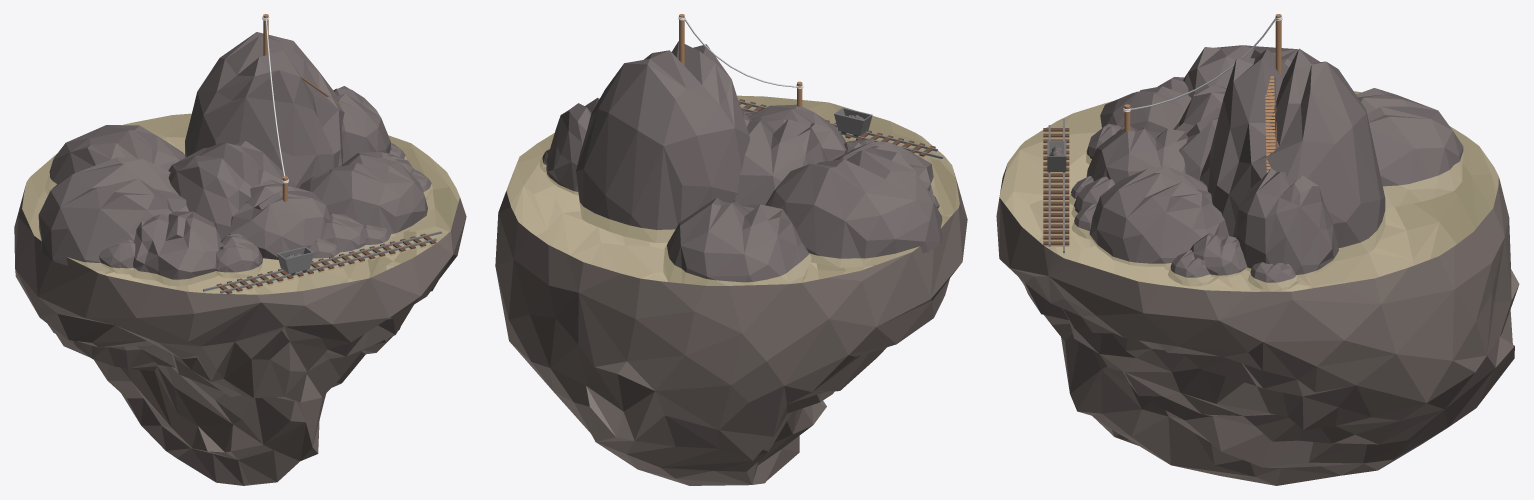
Rendered from Rocks Islands.fbx.
3 views of the same model, side by side, from view 1: azimuth 30°, elevation 25°; view 2: azimuth 150°, elevation 25°; view 3: azimuth 270°, elevation 25° (orthographic). The views are drawn at different scales.
Visible parts, largest first — view 1: Esfera_50, Esfera_18, Cubo_27_2, Esfera_48, Esfera_40, Esfera_30, Esfera_44, Esfera_42, Esfera_46, Esfera_38, Esfera_32, Esfera_36 (+6 smaller); view 2: Esfera_50, Esfera_18, Cubo_27_2, Esfera_48, Esfera_46, Esfera_30, Esfera_38, Esfera_42, Esfera_44, carro; view 3: Esfera_50, Cubo_27_2, Esfera_18, Esfera_40, Esfera_46, Esfera_38, Esfera_42, Esfera_44, Esfera_30, Esfera_48, Esfera_34, Esfera_22 (+2 smaller).
Part boxes in pixels (left/top/right/bottom): Esfera_50: left=14, top=113, right=466, bottom=485; Esfera_18: left=185, top=32, right=344, bottom=187; Cubo_27_2: left=22, top=113, right=459, bottom=294; Esfera_48: left=38, top=157, right=189, bottom=271; Esfera_40: left=299, top=152, right=428, bottom=236; Esfera_30: left=168, top=140, right=294, bottom=239; Esfera_44: left=129, top=211, right=222, bottom=286; Esfera_42: left=229, top=179, right=331, bottom=259; Esfera_46: left=45, top=125, right=185, bottom=195; Esfera_38: left=333, top=86, right=391, bottom=163; Esfera_32: left=216, top=233, right=262, bottom=278; Esfera_36: left=323, top=213, right=365, bottom=258; Esfera_50: left=495, top=95, right=967, bottom=485; Esfera_18: left=576, top=41, right=749, bottom=242; Cubo_27_2: left=506, top=95, right=959, bottom=285; Esfera_48: left=765, top=148, right=942, bottom=267; Esfera_46: left=663, top=197, right=811, bottom=285; Esfera_30: left=734, top=113, right=827, bottom=208; Esfera_38: left=546, top=97, right=599, bottom=195; Esfera_42: left=748, top=104, right=846, bottom=160; Esfera_44: left=833, top=142, right=934, bottom=194; carro: left=834, top=107, right=872, bottom=135; Esfera_50: left=996, top=91, right=1519, bottom=485; Cubo_27_2: left=999, top=91, right=1498, bottom=291; Esfera_18: left=1200, top=48, right=1385, bottom=261; Esfera_40: left=1089, top=166, right=1228, bottom=266; Esfera_46: left=1356, top=88, right=1463, bottom=207; Esfera_38: left=1233, top=168, right=1339, bottom=277; Esfera_42: left=1086, top=126, right=1188, bottom=184; Esfera_44: left=1100, top=77, right=1191, bottom=132; Esfera_30: left=1173, top=85, right=1226, bottom=180; Esfera_48: left=1183, top=45, right=1297, bottom=98; Esfera_34: left=1190, top=233, right=1247, bottom=277; Esfera_22: left=1248, top=262, right=1301, bottom=291.
Size of the model in its own units: 497 by 519 by 502.
